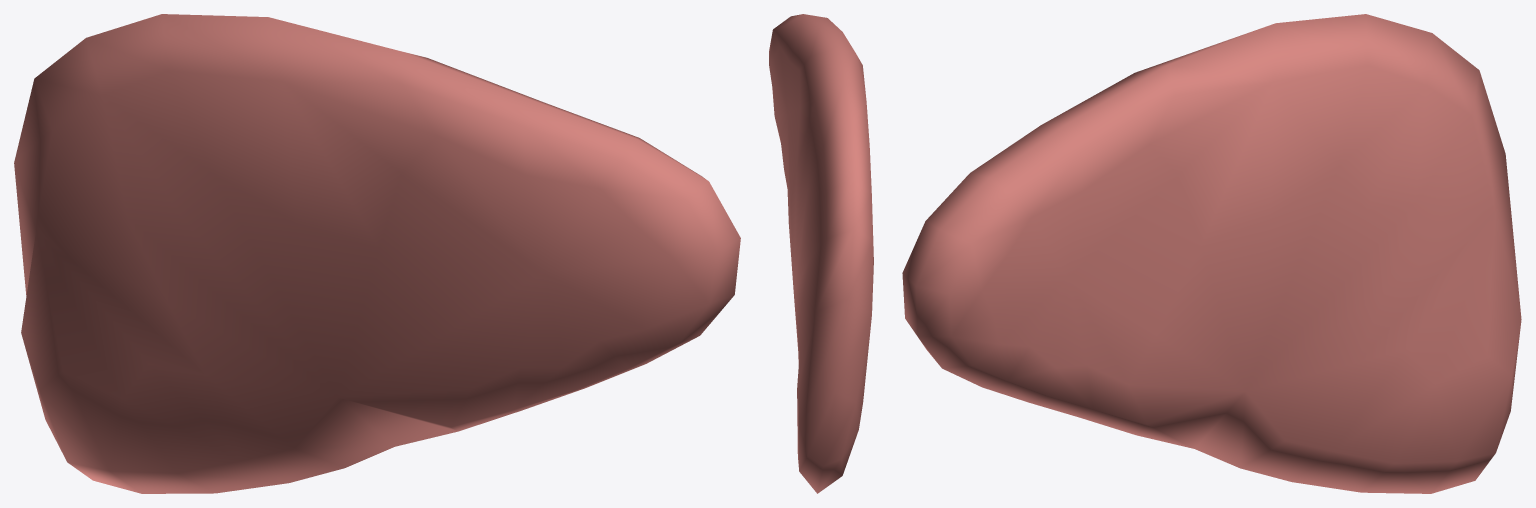
3 renders of one model, left to right at view 1: azimuth 30°, elevation 25°; view 2: azimuth 150°, elevation 25°; view 3: azimuth 270°, elevation 25°, orthographic. The views are drawn at different scales.
Visible parts, largest first — view 1: ZA_3b959ac5a6ced28c; view 2: ZA_3b959ac5a6ced28c; view 3: ZA_3b959ac5a6ced28c.
Part boxes in pixels (box(x1,y1,x2,y2)): ZA_3b959ac5a6ced28c: box(14, 14, 740, 493); ZA_3b959ac5a6ced28c: box(769, 14, 873, 493); ZA_3b959ac5a6ced28c: box(902, 14, 1521, 493).
Size of the model in its own units: 0.00237 by 0.00281 by 0.00322.
